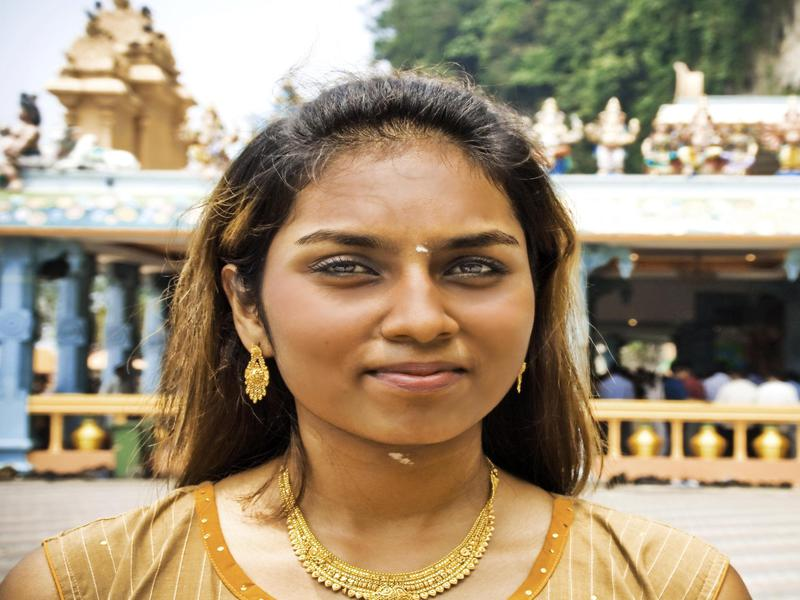person: (19, 62, 741, 600)
